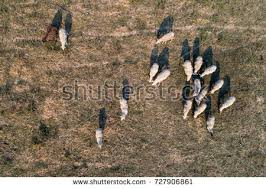sheep: (116, 97, 130, 122), (93, 126, 106, 152), (218, 95, 236, 113), (152, 69, 171, 86), (57, 27, 71, 50), (154, 31, 176, 45), (192, 102, 208, 121), (42, 25, 57, 45), (209, 78, 224, 97), (195, 85, 208, 106), (181, 58, 192, 82), (206, 113, 216, 137), (200, 64, 218, 77), (182, 99, 192, 122), (147, 62, 157, 84), (192, 78, 203, 98), (193, 54, 202, 74)
